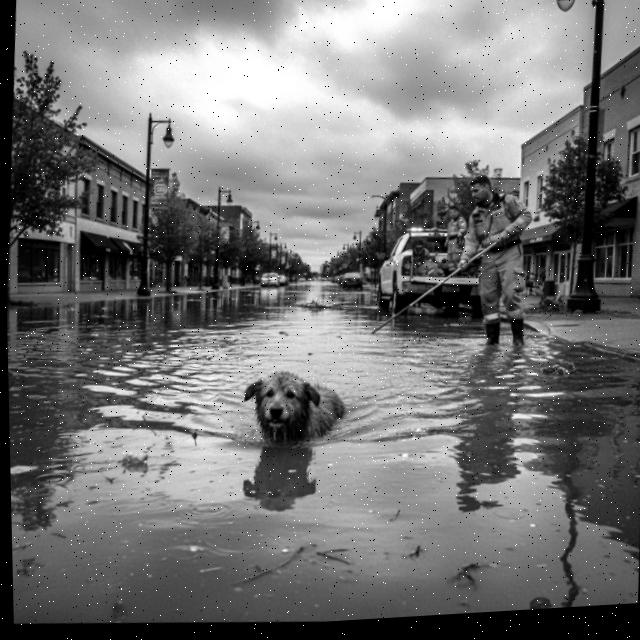dog: (232, 362, 363, 461)
rescuer: (448, 169, 555, 366), (438, 198, 478, 281)
